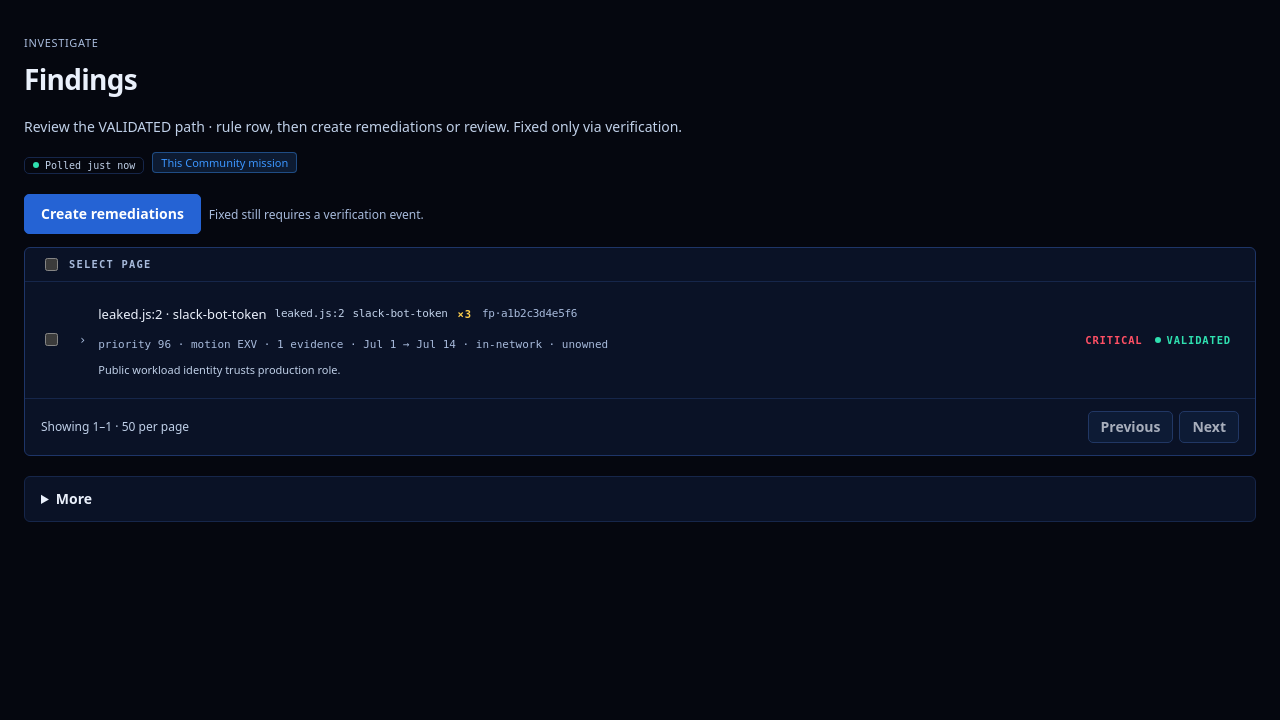
Scenario: FindingsWorkbench v2 › P2-FINDINGSMALL: Create remediations is the first-hour verb when a Community mission has no task yet
What coordinates should you click on to do the following:
click the button with test id "findings-first-hour-primary"
I would click on:
 (112, 214)
Its box is [24, 194, 201, 234].
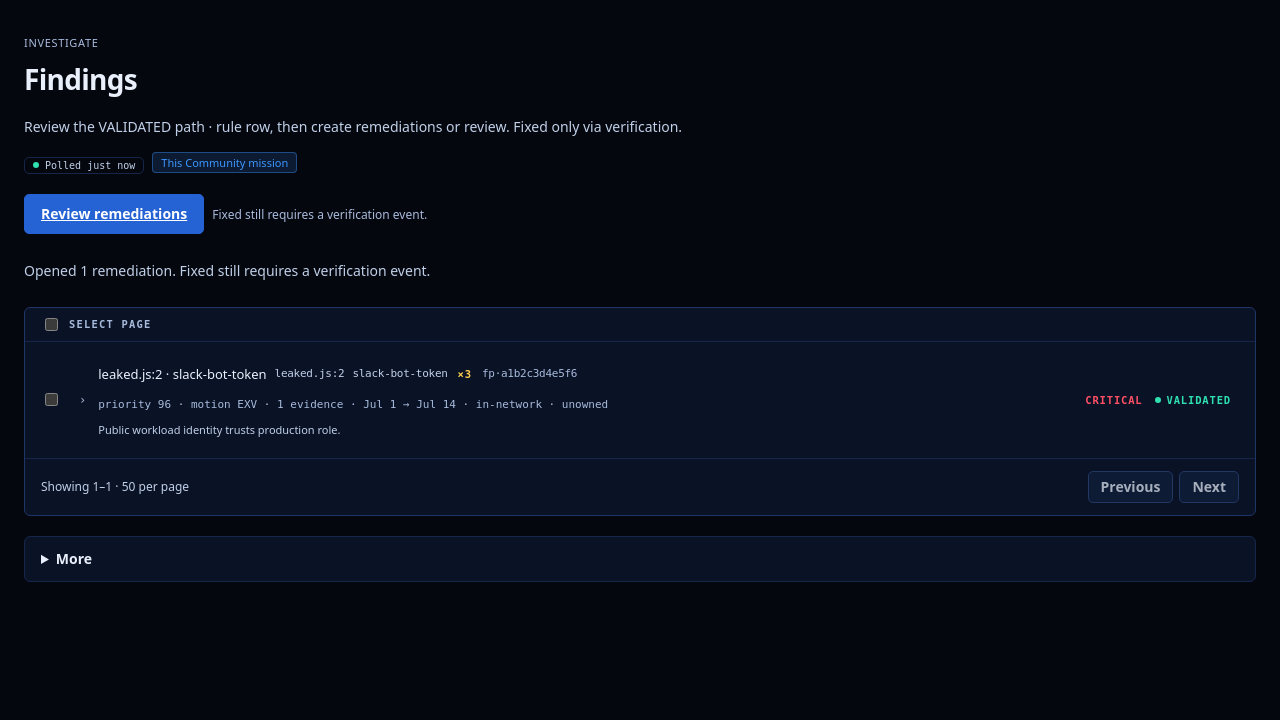
Expected: the text "Fixed still requires a verification event." is shown, [212, 206, 427, 223]
Expected: the link with test id "findings-first-hour-primary" reads "Review remediations", [24, 194, 204, 234]
